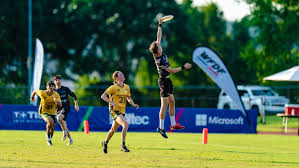disc: (160, 14, 175, 23)
